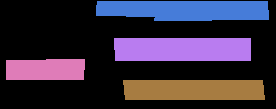parkingspot: (96, 1, 268, 20), (114, 38, 250, 60), (123, 80, 264, 99), (6, 59, 84, 79)
